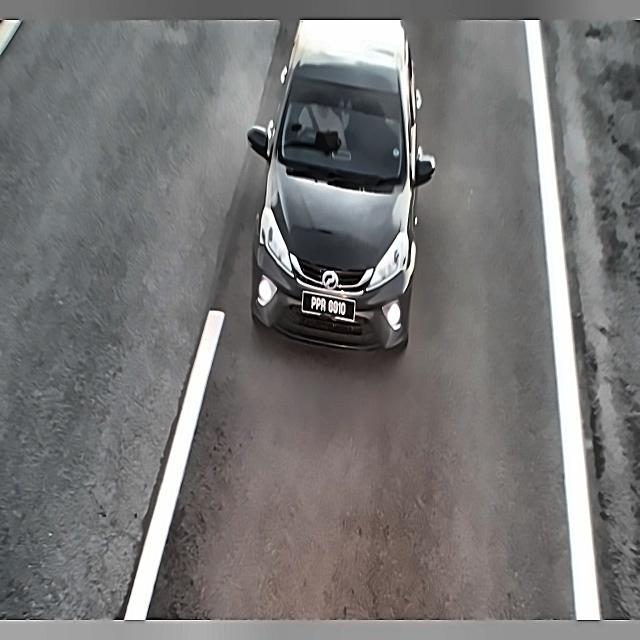car: (299, 284, 357, 328)
